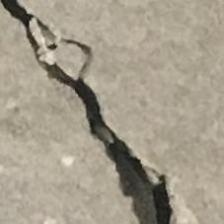Crack: (6, 0, 186, 221)
